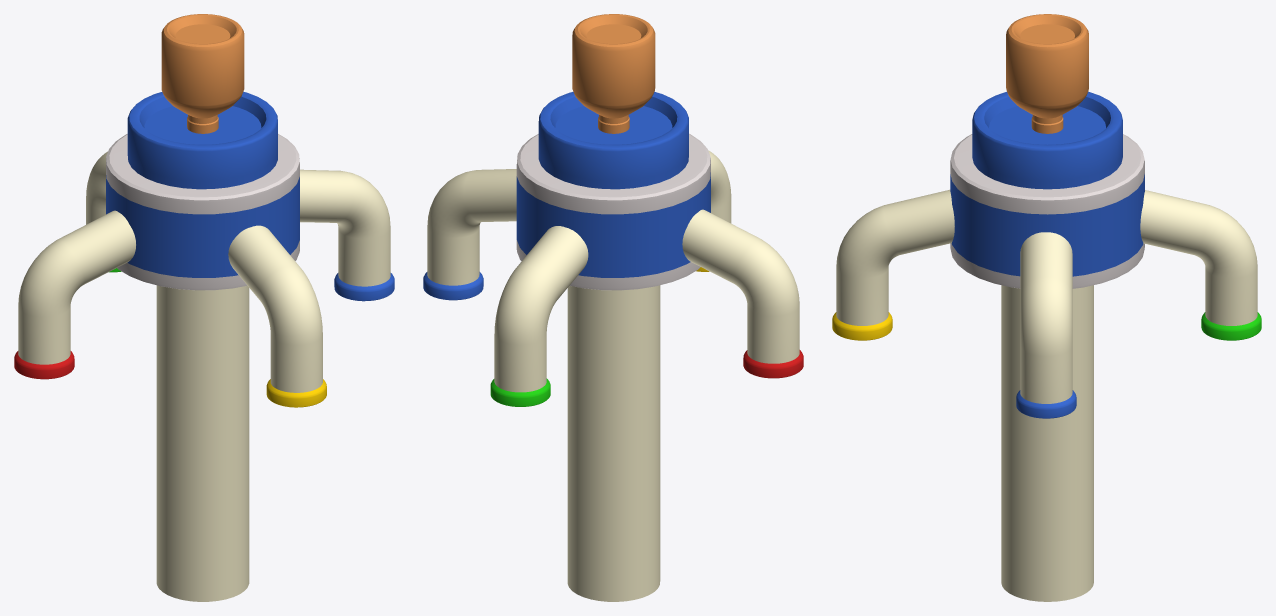
The model's file is doNuoc.fbx.
3 views of the same model, side by side, from view 1: azimuth 30°, elevation 25°; view 2: azimuth 150°, elevation 25°; view 3: azimuth 270°, elevation 25° (orthographic).
Visible parts, largest first — view 1: Cylinder.007; view 2: Cylinder.007; view 3: Cylinder.007.
Boxes of the visible parts, <box> form: Cylinder.007: <box>14,14,394,601</box>; Cylinder.007: <box>423,14,803,601</box>; Cylinder.007: <box>832,14,1261,601</box>.
Size of the model in its own units: 444 by 630 by 444.
